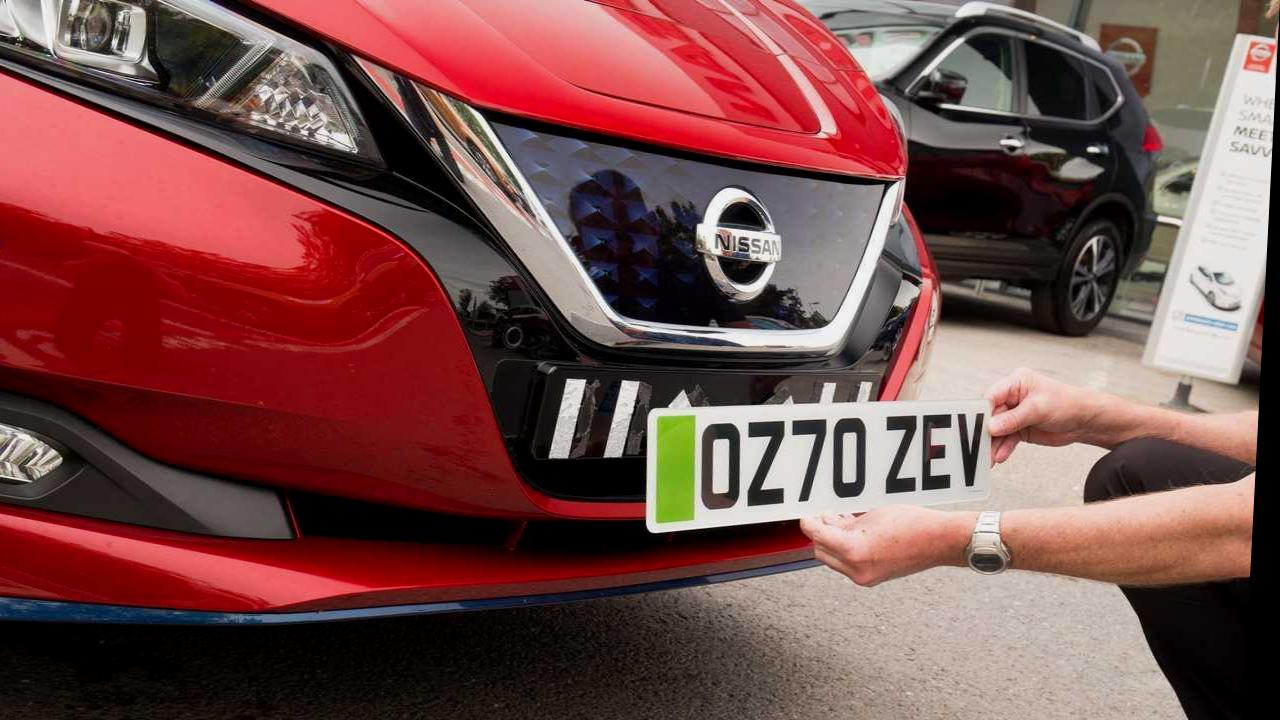License_Plate: (634, 394, 1008, 534)
